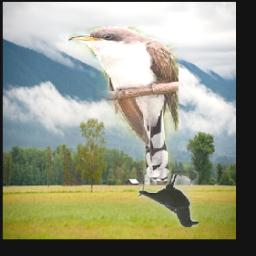Crow: (138, 172, 200, 228)
Cuckoo: (69, 27, 179, 186)
